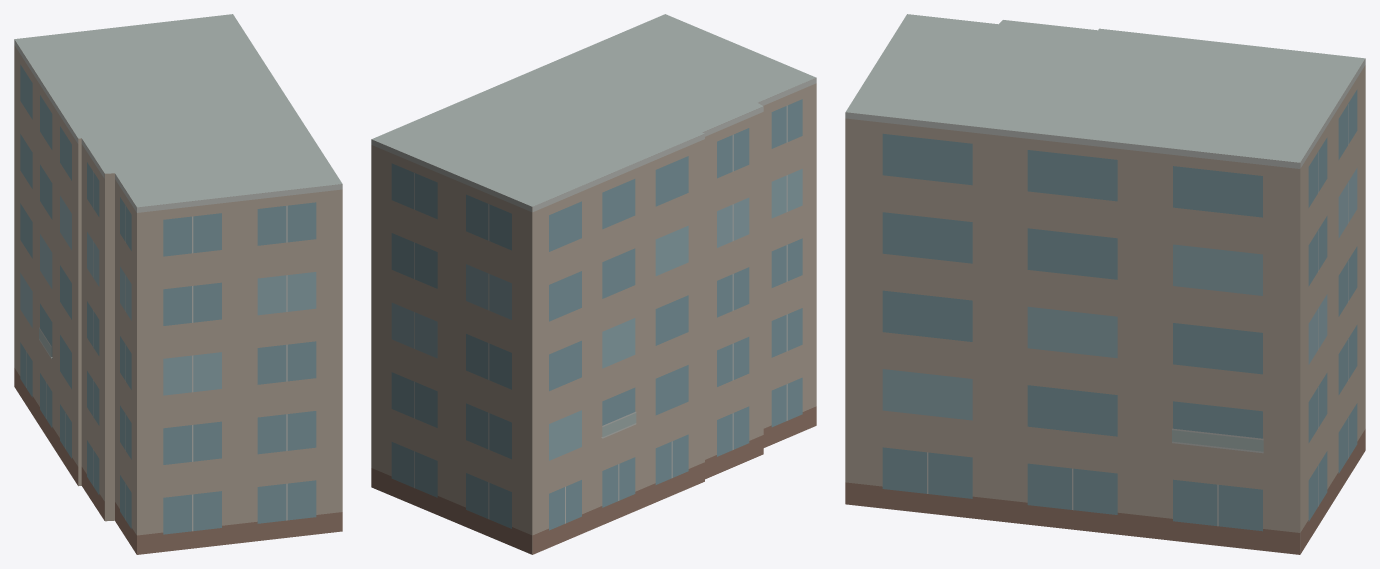
File: survey-upis-32624779.glb
The picture shows the model from 3 angles, left to right: view 1: azimuth 30°, elevation 25°; view 2: azimuth 150°, elevation 25°; view 3: azimuth 270°, elevation 25°; orthographic projection. The views are drawn at different scales.
Parts seen in each view (by area): view 1: survey-upis-32624779.tmp; view 2: survey-upis-32624779.tmp; view 3: survey-upis-32624779.tmp.
Part boxes in pixels (box(x1,y1,x2,y2)): survey-upis-32624779.tmp: box(14, 14, 342, 554); survey-upis-32624779.tmp: box(371, 14, 816, 554); survey-upis-32624779.tmp: box(845, 14, 1365, 554).
Size of the model in its own units: 12.46 by 15.3 by 18.4.
